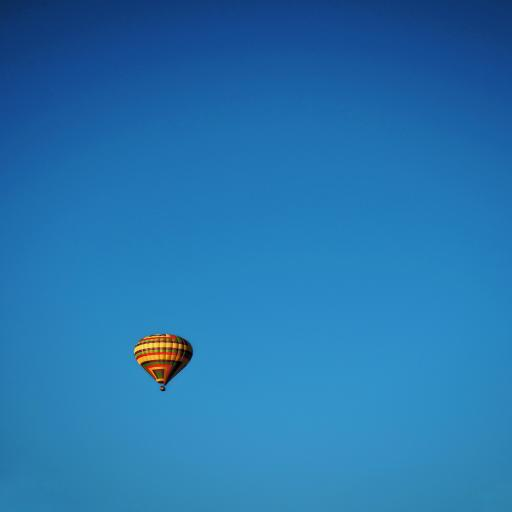hot air ballon: (134, 331, 195, 393)
